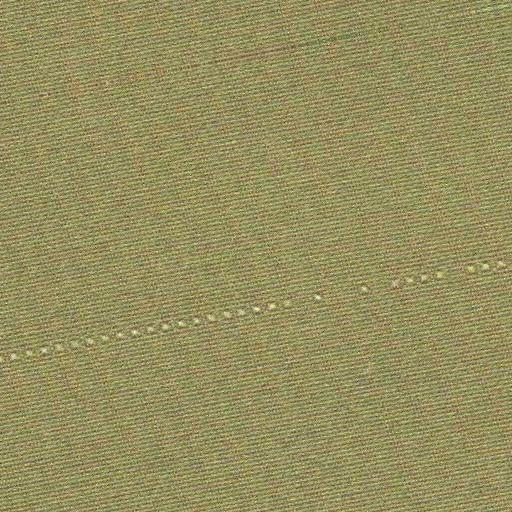slub: (2, 247, 505, 373)
